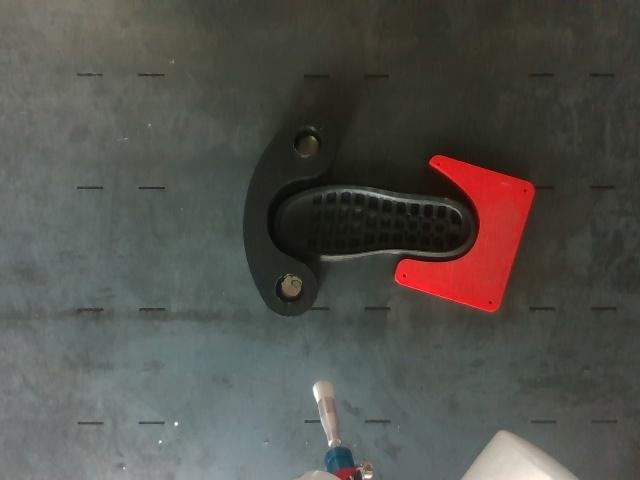shoes: (275, 186, 472, 255)
